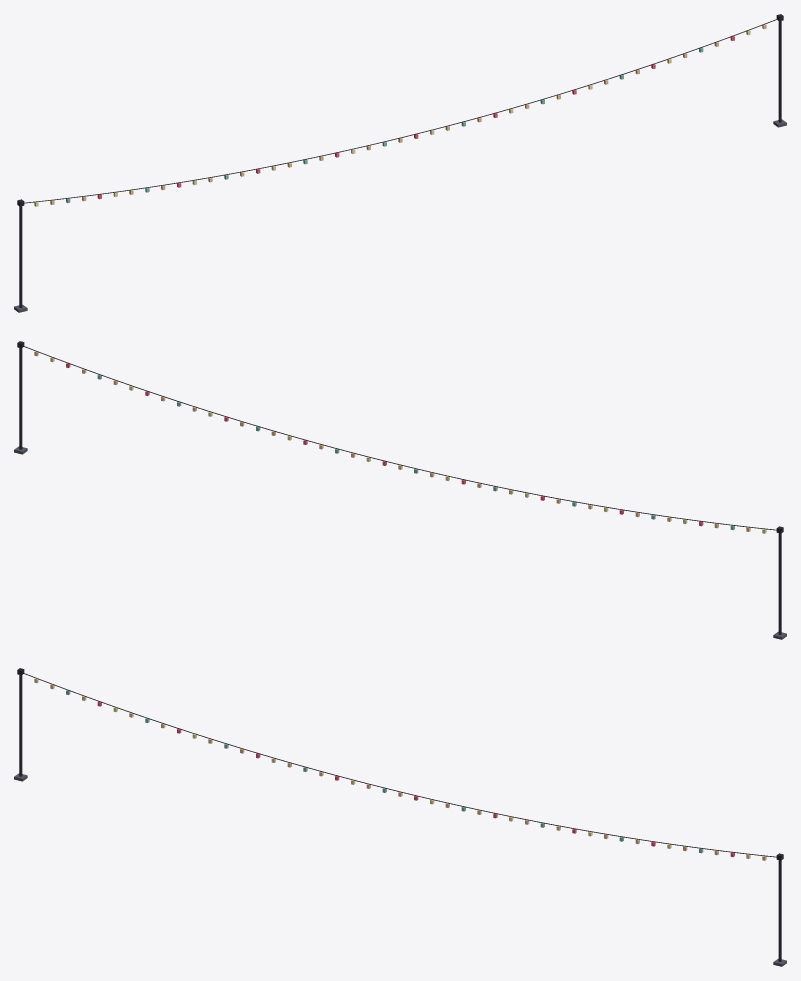
Rendered from CatCafe_Alley_StringLightsWide.glb.
The picture shows the model from 3 angles, top to bottom: view 1: azimuth 30°, elevation 25°; view 2: azimuth 150°, elevation 25°; view 3: azimuth 330°, elevation 25°; orthographic projection.
Parts seen in each view (by area): view 1: CatCafe_Alley_StringLightsWide_Decor, CatCafe_Alley_StringLightsWide_Bulbs, CatCafe_Alley_StringLightsWide; view 2: CatCafe_Alley_StringLightsWide_Decor, CatCafe_Alley_StringLightsWide_Bulbs, CatCafe_Alley_StringLightsWide; view 3: CatCafe_Alley_StringLightsWide_Decor, CatCafe_Alley_StringLightsWide_Bulbs, CatCafe_Alley_StringLightsWide.
Boxes of the visible parts, x1,y1,x2,y2 form: CatCafe_Alley_StringLightsWide_Decor: (24,18,777,203); CatCafe_Alley_StringLightsWide_Bulbs: (34,24,766,206); CatCafe_Alley_StringLightsWide: (14,14,786,312); CatCafe_Alley_StringLightsWide_Decor: (23,345,776,530); CatCafe_Alley_StringLightsWide_Bulbs: (34,351,766,533); CatCafe_Alley_StringLightsWide: (14,341,786,639); CatCafe_Alley_StringLightsWide_Decor: (23,672,776,857); CatCafe_Alley_StringLightsWide_Bulbs: (34,678,766,860); CatCafe_Alley_StringLightsWide: (14,668,786,966).
Bounding box in the file's own units: 89 × 12.1 × 1.
Materials: 1 (1 with a texture image).
